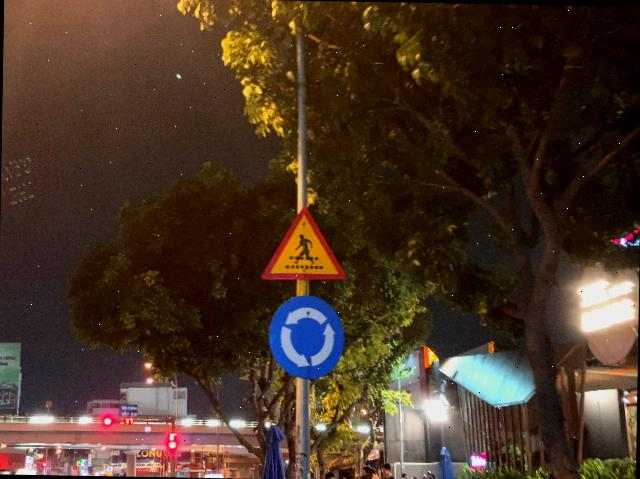duong-nguoi-di-bo-cat-ngang: (260, 205, 348, 280)
noi-giao-nhau-chay-theo-vong-xuyen: (268, 294, 346, 381)
